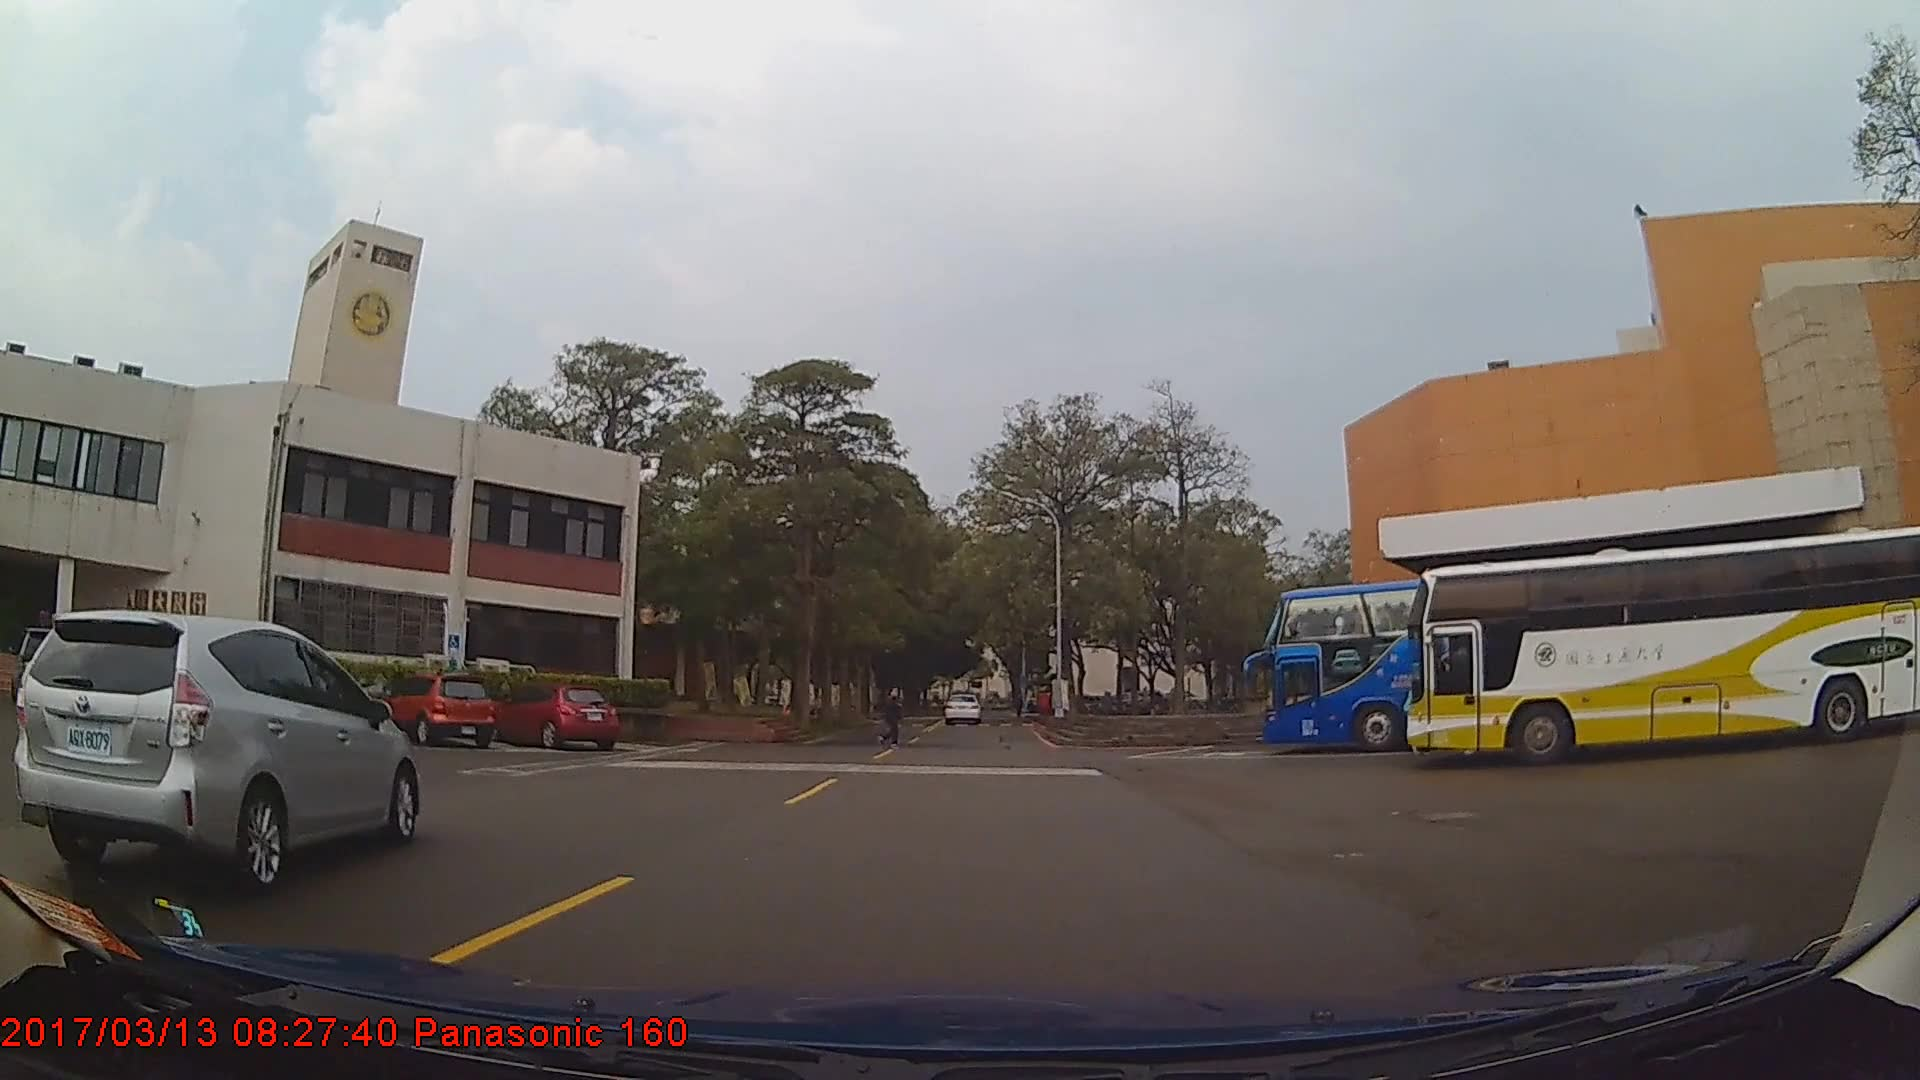pedestrian: (882, 685, 904, 749)
vehicle: (1405, 524, 1920, 769), (12, 608, 425, 894), (1262, 570, 1843, 754), (488, 681, 620, 751), (384, 673, 494, 747), (944, 692, 982, 726)
